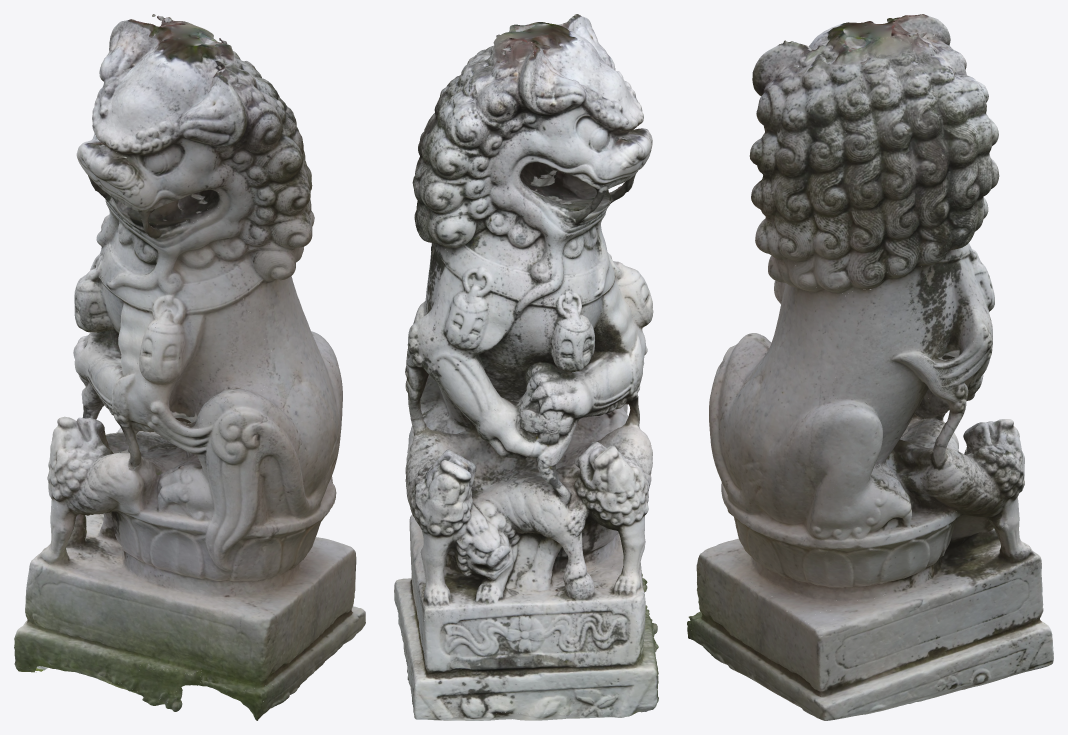
File: yenching-statue.glb
3 views of the same model, side by side, from view 1: azimuth 30°, elevation 25°; view 2: azimuth 150°, elevation 25°; view 3: azimuth 270°, elevation 25° (orthographic).
Visible parts, largest first — view 1: Object_2, Object_3, Object_4; view 2: Object_3, Object_4, Object_2; view 3: Object_2, Object_3, Object_4.
Boxes of the visible parts, x1,y1,x2,y2 form: Object_2: (14,14,365,716); Object_3: (14,19,321,711); Object_4: (17,15,354,720); Object_3: (405,14,657,719); Object_4: (405,16,657,633); Object_2: (394,30,658,720); Object_2: (690,18,1053,720); Object_3: (749,14,1050,629); Object_4: (687,14,1051,664).
Size of the model in its own units: 3.1 by 6.14 by 3.21.
Materials: 3 (3 with a texture image).
